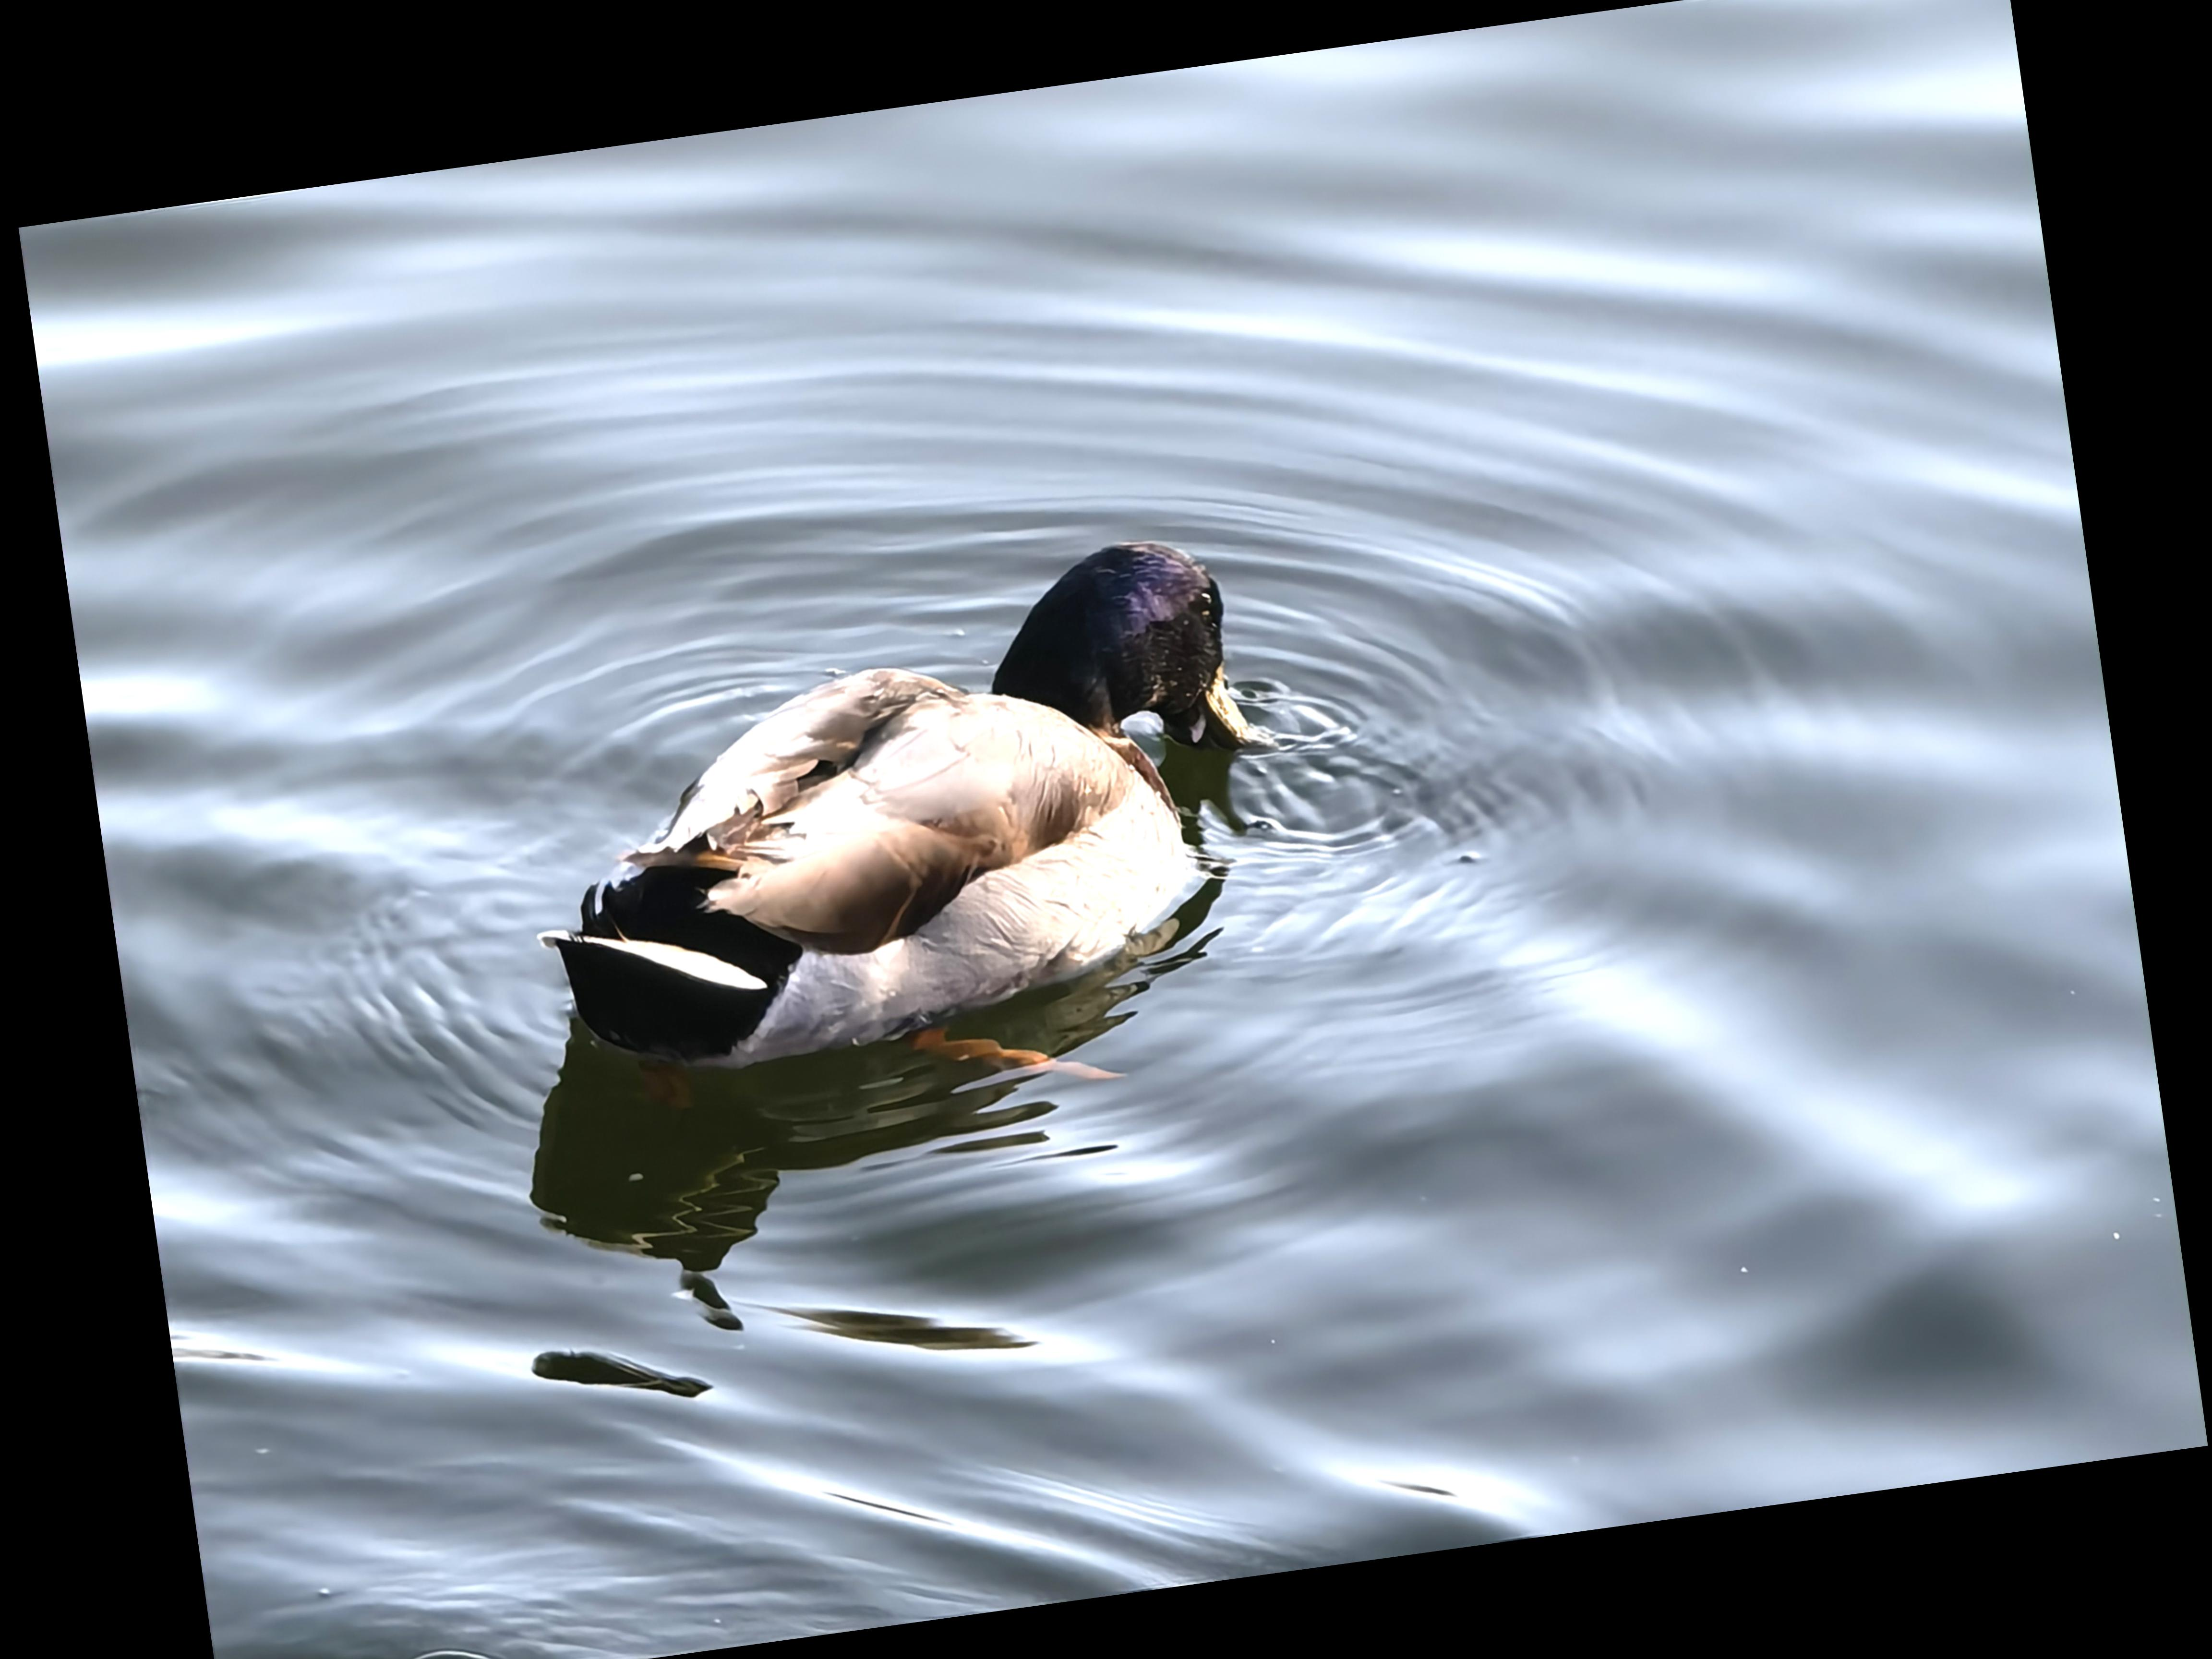duck: (437, 491, 1346, 1216)
